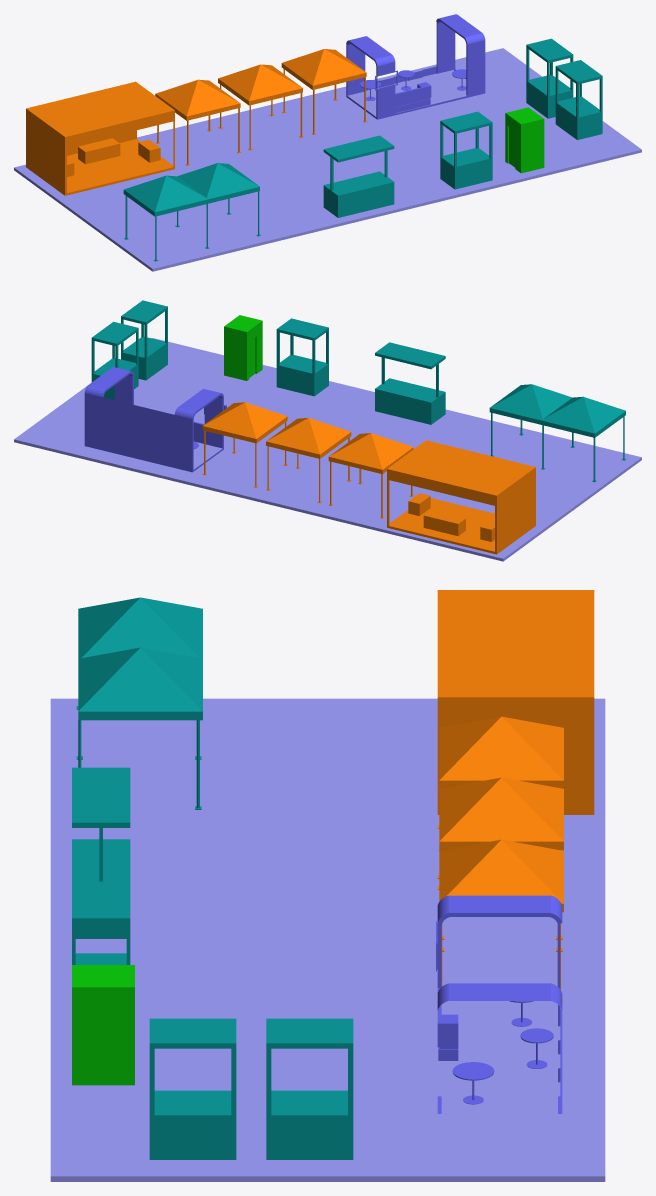
Rendered from Bazar.glb.
3 renders of one model, top to bottom at view 1: azimuth 30°, elevation 25°; view 2: azimuth 150°, elevation 25°; view 3: azimuth 270°, elevation 25°, orthographic. The views are drawn at different scales.
Parts seen in each view (by area): view 1: Floor, Tenant4, Tenant10, Tenant9, Tenant8, Tenant7, Tenant6, Tenant2, Tenant3, Tenant1, Mesh60 Model, Tenant5; view 2: Floor, Tenant4, Tenant10, Tenant9, Tenant8, Tenant7, Tenant3, Tenant2, Tenant1, Mesh60 Model, Tenant6, Tenant5; view 3: Floor, Tenant4, Tenant9, Tenant5, Tenant6, Tenant10, Tenant2, Tenant1, Mesh60 Model, Tenant8, Tenant3, Tenant7.
Part boxes in pixels (left/top/right/bottom): Floor: left=14, top=48, right=641, bottom=271; Tenant4: left=26, top=81, right=174, bottom=195; Tenant10: left=346, top=14, right=485, bottom=119; Tenant9: left=123, top=163, right=260, bottom=261; Tenant8: left=323, top=135, right=394, bottom=217; Tenant7: left=440, top=111, right=492, bottom=189; Tenant6: left=555, top=60, right=602, bottom=139; Tenant2: left=218, top=64, right=303, bottom=150; Tenant3: left=281, top=49, right=367, bottom=134; Tenant1: left=155, top=79, right=241, bottom=165; Mesh60 Model: left=505, top=107, right=544, bottom=173; Tenant5: left=526, top=38, right=573, bottom=118; Floor: left=14, top=338, right=641, bottom=561; Tenant4: left=387, top=440, right=535, bottom=554; Tenant10: left=84, top=367, right=226, bottom=472; Tenant9: left=489, top=384, right=626, bottom=482; Tenant8: left=375, top=342, right=445, bottom=424; Tenant7: left=276, top=318, right=328, bottom=396; Tenant3: left=202, top=402, right=287, bottom=487; Tenant2: left=266, top=418, right=351, bottom=502; Tenant1: left=328, top=433, right=413, bottom=518; Mesh60 Model: left=224, top=315, right=262, bottom=380; Tenant6: left=121, top=300, right=167, bottom=380; Tenant5: left=91, top=321, right=138, bottom=399; Floor: left=50, top=698, right=605, bottom=1181; Tenant4: left=437, top=590, right=594, bottom=814; Tenant9: left=76, top=597, right=202, bottom=809; Tenant5: left=266, top=1018, right=353, bottom=1159; Tenant6: left=149, top=1018, right=236, bottom=1159; Tenant10: left=436, top=895, right=562, bottom=1113; Tenant2: left=437, top=777, right=563, bottom=939; Tenant1: left=437, top=716, right=563, bottom=878; Mesh60 Model: left=72, top=965, right=134, bottom=1085; Tenant8: left=72, top=767, right=130, bottom=938; Tenant3: left=439, top=839, right=563, bottom=1001; Tenant7: left=72, top=881, right=130, bottom=964.
Bounding box in the file's own units: 2.72 × 0.377 × 1.33.
